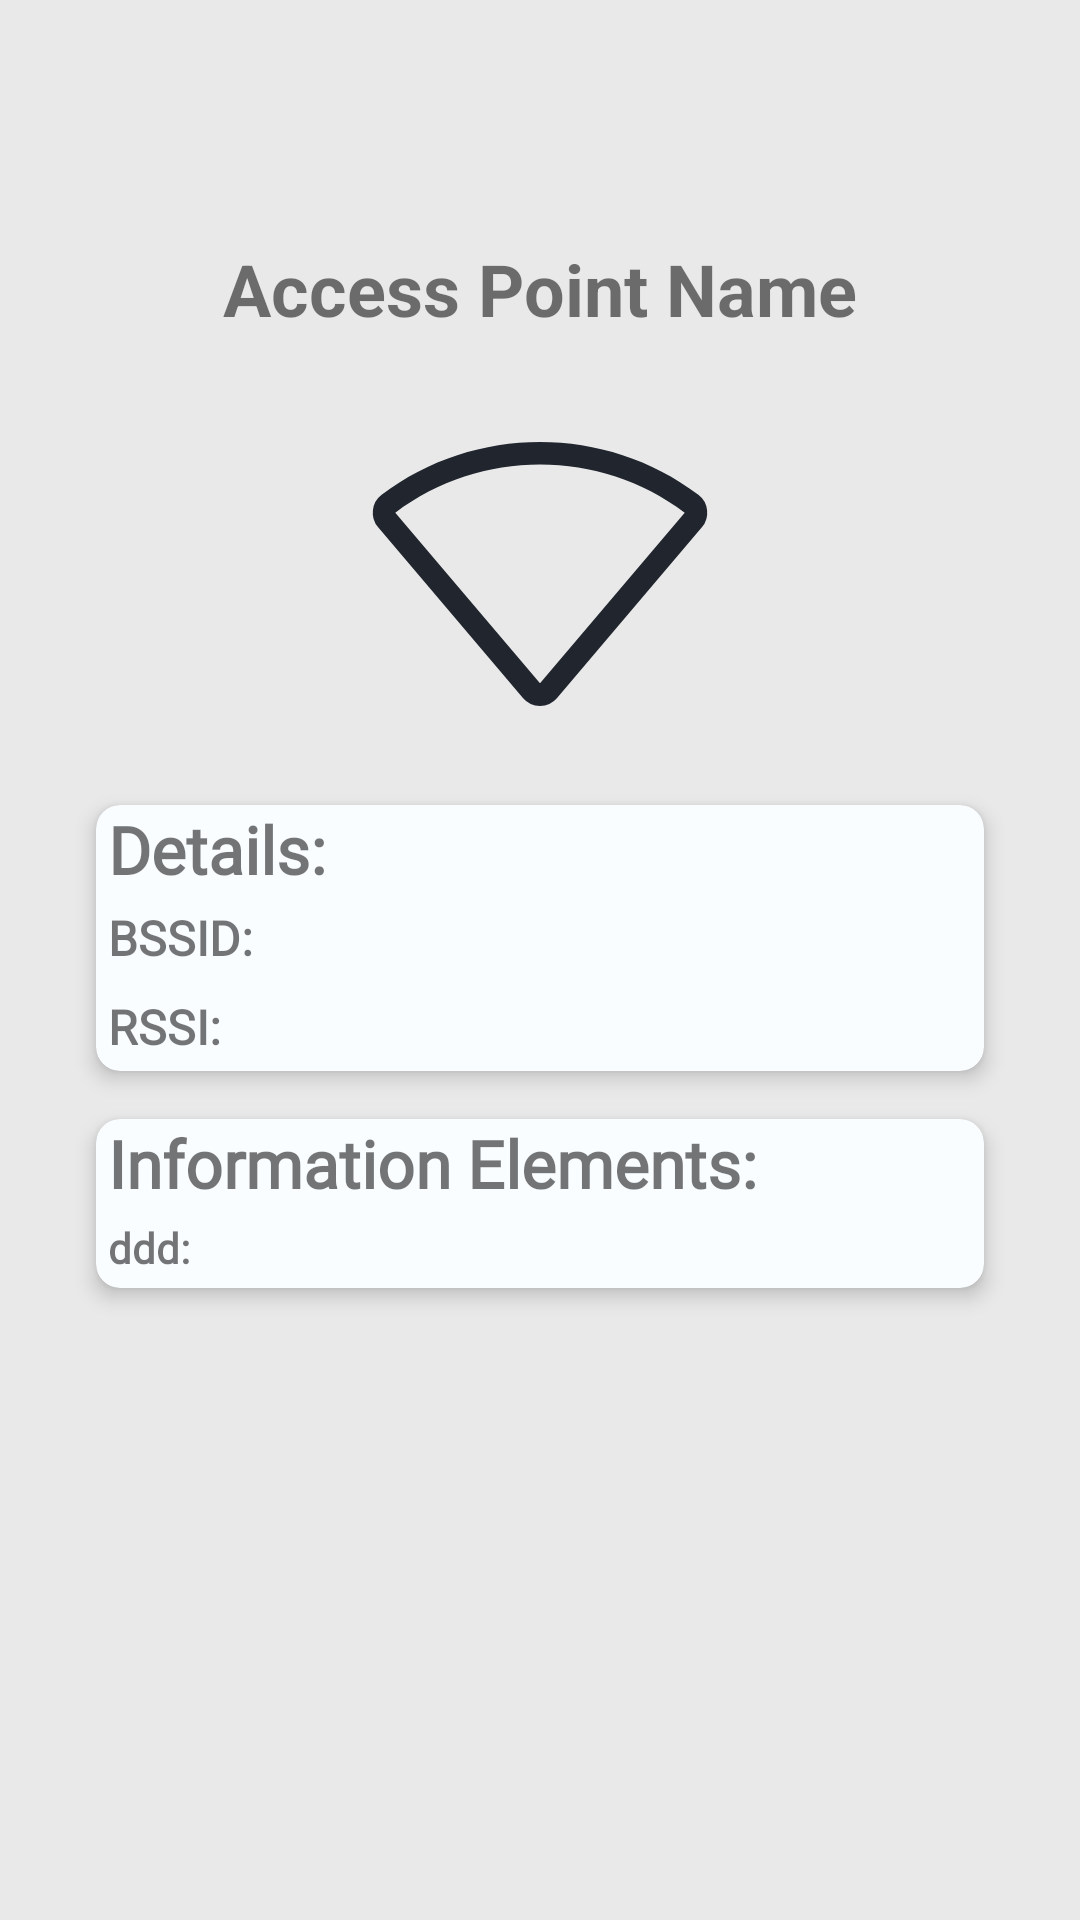

Point at icon controls on the screen. Image size 1080 × 1920, points as [x,y].
This is a wifi icon that adapts to received signal strength: [540,574]
